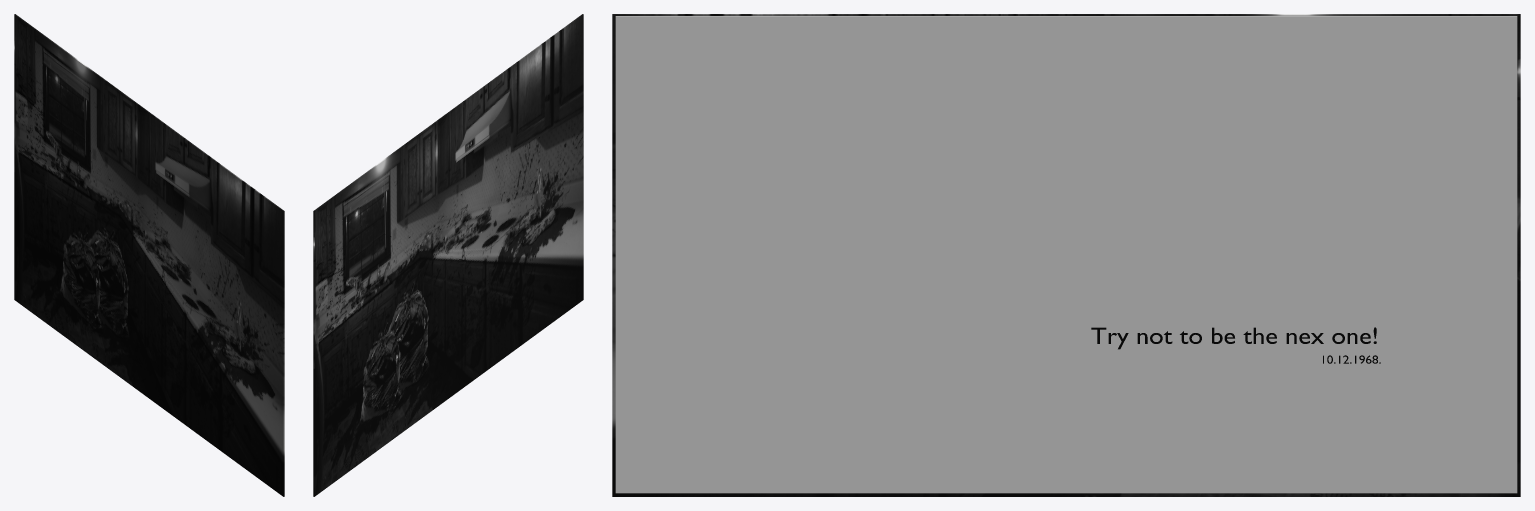
Rendered from Photo1_Kitchen.fbx.
The picture shows the model from 3 angles, left to right: view 1: azimuth 30°, elevation 25°; view 2: azimuth 150°, elevation 25°; view 3: azimuth 270°, elevation 25°; orthographic projection. The views are drawn at different scales.
Visible parts, largest first — view 1: Kitchen_bw1; view 2: Kitchen_bw1; view 3: Plane, Kitchen_bw1, Text.
Part boxes in pixels (left/top/right/bottom): Kitchen_bw1: left=14, top=14, right=284, bottom=496; Kitchen_bw1: left=313, top=14, right=583, bottom=496; Plane: left=615, top=16, right=1517, bottom=493; Kitchen_bw1: left=612, top=14, right=1520, bottom=496; Text: left=1091, top=327, right=1376, bottom=349.
Bounding box in the file's own units: 0.7794 × 100 × 171.
